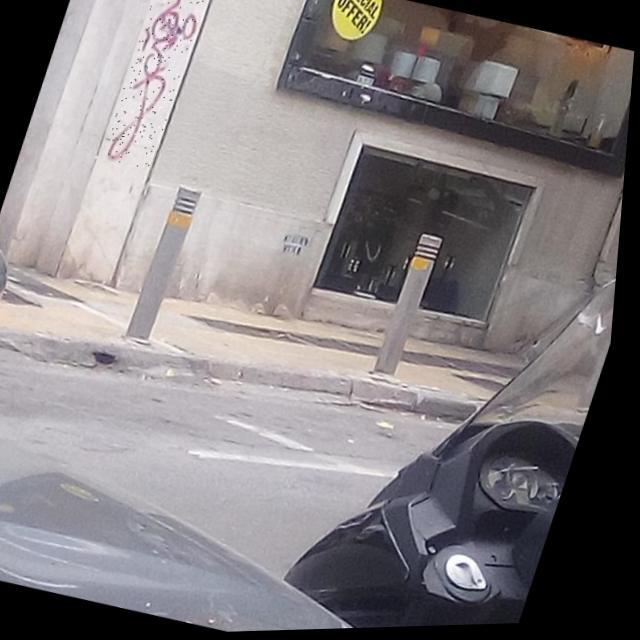-: (102, 0, 217, 172)
